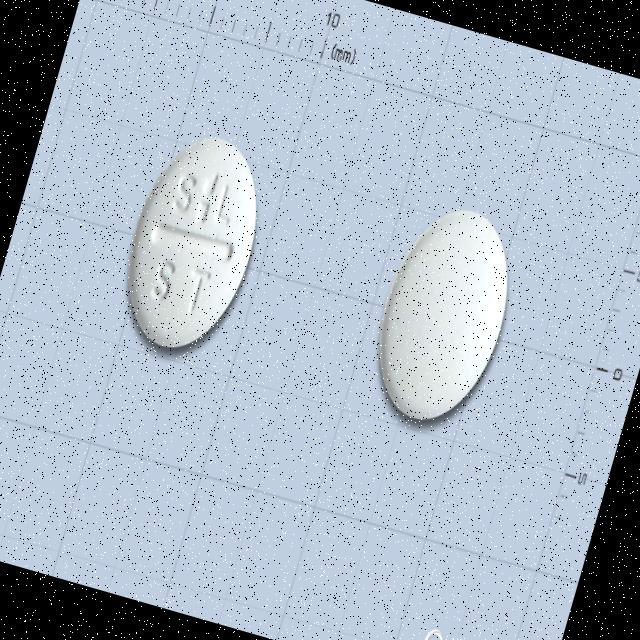Septrin: (106, 122, 280, 363)
